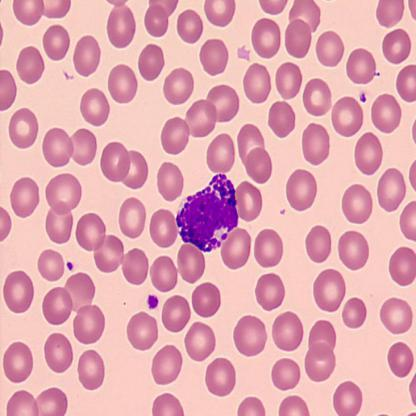Basophil: (173, 170, 242, 254)
